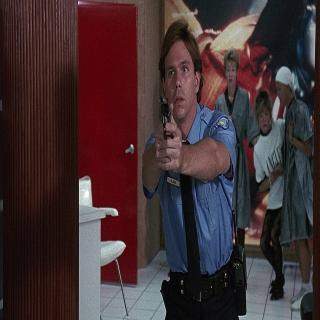gun: (154, 92, 178, 172)
